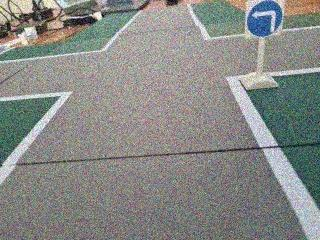left: (238, 0, 291, 43)
